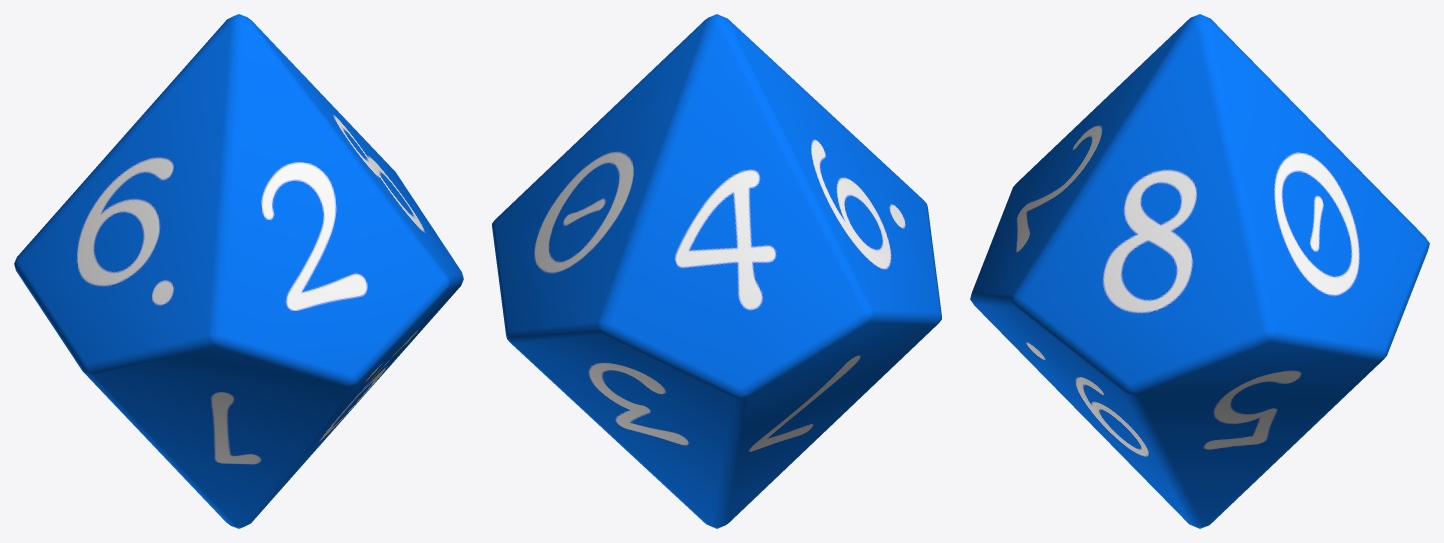
3 renders of one model, left to right at view 1: azimuth 30°, elevation 25°; view 2: azimuth 150°, elevation 25°; view 3: azimuth 270°, elevation 25°, orthographic.
Parts seen in each view (by area): view 1: Pentagonal Trapazohedron; view 2: Pentagonal Trapazohedron; view 3: Pentagonal Trapazohedron.
Boxes of the visible parts, left/top/right/bottom form: Pentagonal Trapazohedron: left=14, top=14, right=463, bottom=528; Pentagonal Trapazohedron: left=492, top=14, right=941, bottom=528; Pentagonal Trapazohedron: left=970, top=14, right=1429, bottom=528.
Size of the model in its own units: 1.49 by 1.93 by 1.57.
Materials: 1 (1 with a texture image).
